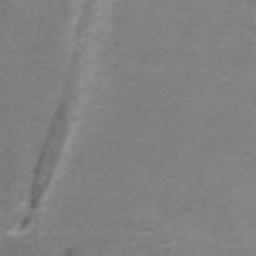Finishing roll printing: (18, 0, 96, 233)
